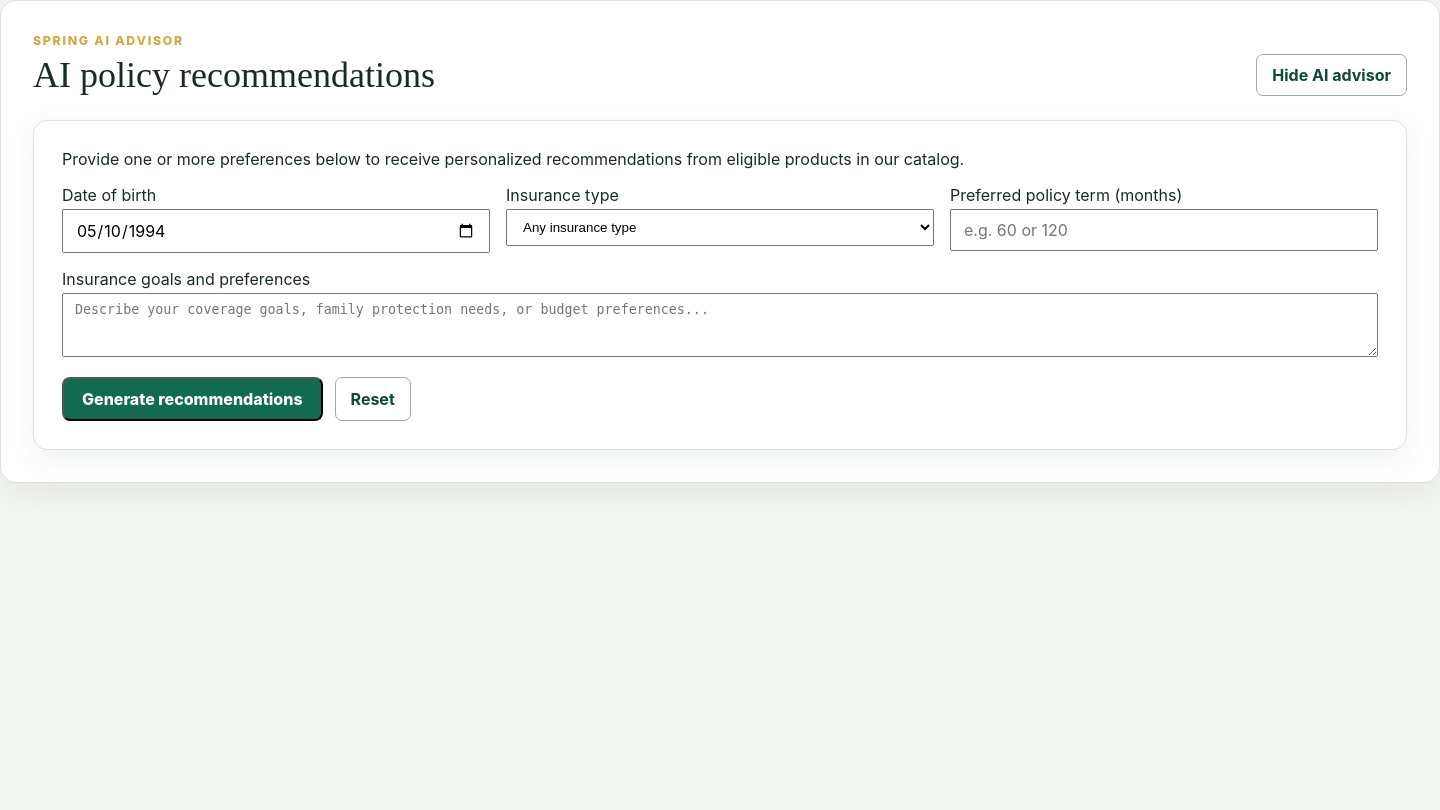
AiRecommendationsSection › validates that at least one input is provided before submitting
This screenshot has width=1440, height=810.
Clear the date field labelled "Date of birth" at x=276, y=231, box x1=62 y1=209 x2=490 y2=253
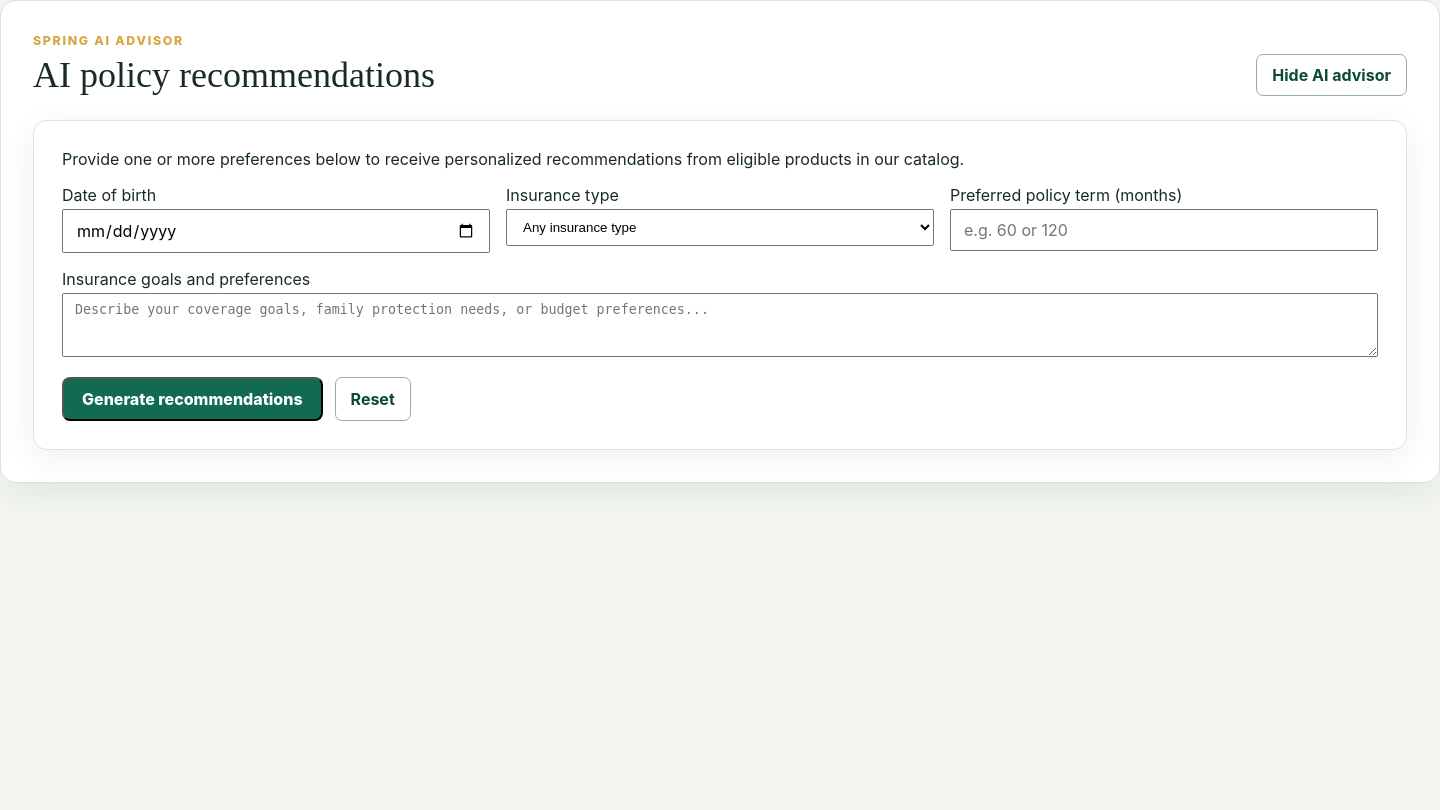
Click the button "Generate recommendations" at x=192, y=399, box x1=62 y1=377 x2=323 y2=421
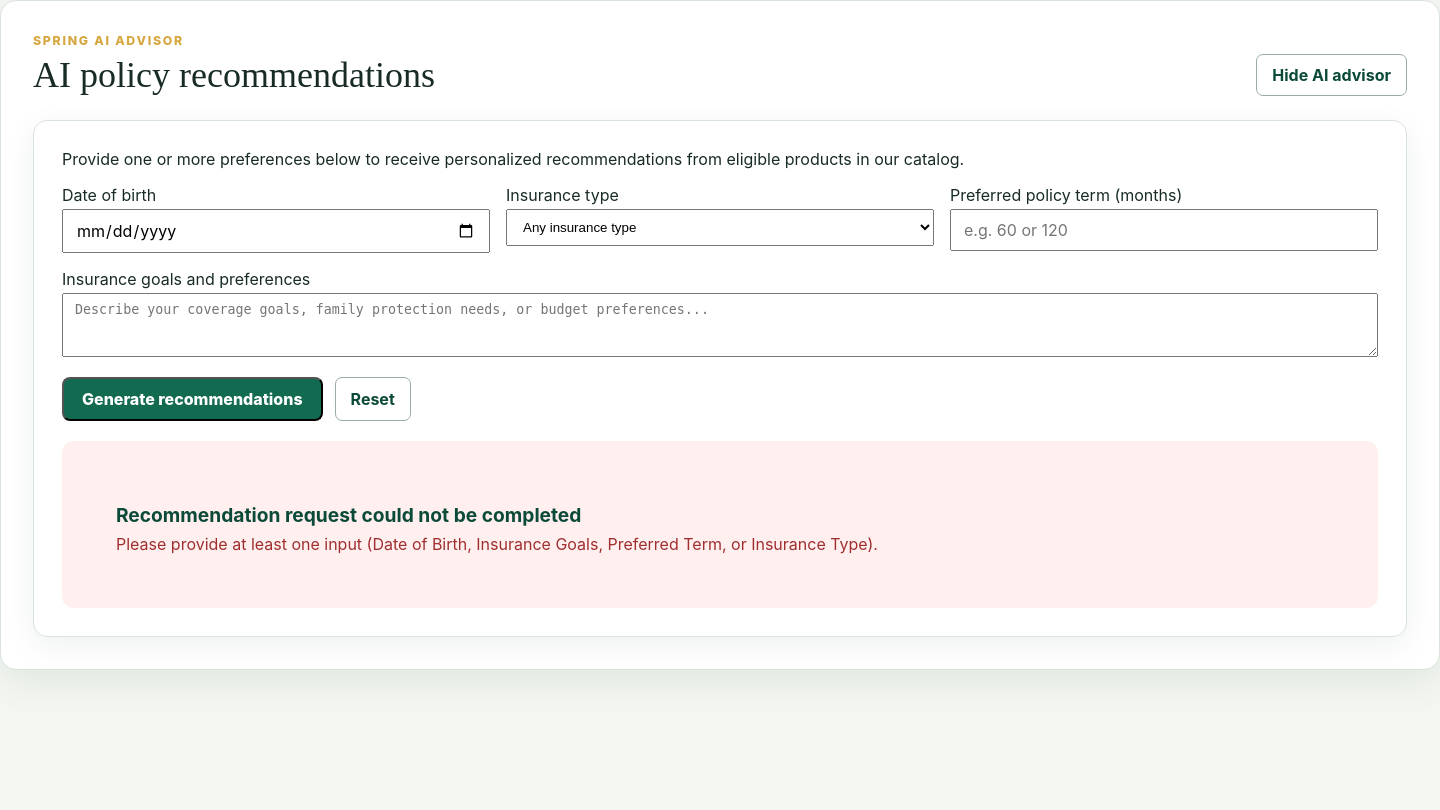
expect the text "Please provide at least one input" is shown: met, box x1=116 y1=534 x2=878 y2=554
